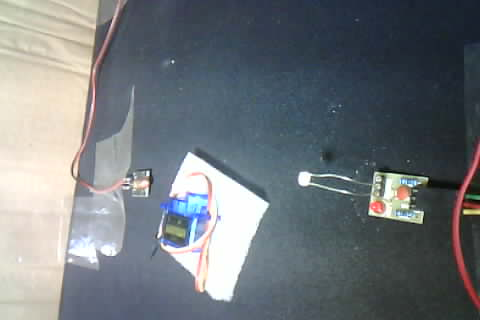motor: (155, 151, 270, 301)
